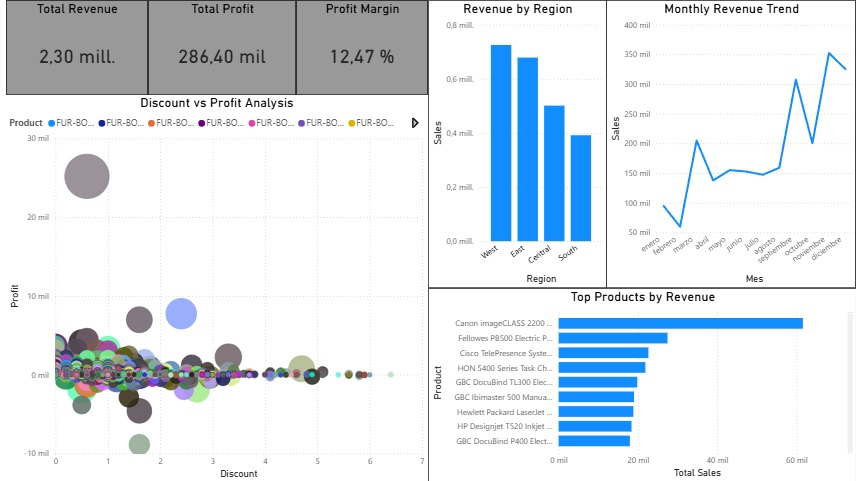

Layout of this report page (visuals, bound fields, positions):
{"tool":"powerbi","page":{"name":"Página 1","canvas":[1280,720],"ordinal":0},"visuals":[{"type":"card","title":"Total Revenue","fields":{"Values":["Sum(analytics sales.sales)"]},"box":[10,0,211.7,141.7],"z":0},{"type":"card","title":"Total Profit","fields":{"Values":["Sum(analytics sales.profit)"]},"box":[222.4,0,220.9,141.8],"z":1000},{"type":"card","title":"Profit Margin","fields":{"Values":["analytics sales.Profit Margin"]},"box":[443.3,0,197,141.8],"z":2000},{"type":"lineChart","title":"Monthly Revenue Trend","fields":{"Category":["analytics sales.order_date.Variación.Jerarquía de fechas.Mes"],"Y":["Sum(analytics sales.sales)"]},"box":[906.7,0,373.3,430],"z":3000},{"type":"scatterChart","title":"Discount vs Profit Analysis","fields":{"X":["Sum(analytics sales.discount)"],"Y":["Sum(analytics sales.profit)"],"Size":["Sum(analytics sales.sales)"],"Series":["analytics sales.product_id"]},"box":[10,141.7,630,578.3],"z":4000},{"type":"clusteredBarChart","title":"Top Products by Revenue","fields":{"Category":["analytics products.product_name"],"Y":["Sum(analytics sales.sales)"]},"box":[640.3,429.9,640.3,289.6],"z":5000},{"type":"clusteredColumnChart","title":"Revenue by Region","fields":{"Y":["Sum(analytics sales.sales)"],"Category":["analytics sales.region"]},"box":[640,0,266.7,430],"z":6000}]}

Visuals, with their boxes in screenshot pixels (x1, y1, x2, y2), scaled from the page's 1280x720 canvas onto the 856x481 screenshot:
"Total Revenue" card: 7, 0, 148, 95
"Total Profit" card: 149, 0, 296, 95
"Profit Margin" card: 296, 0, 428, 95
"Monthly Revenue Trend" lineChart: 606, 0, 855, 287
"Discount vs Profit Analysis" scatterChart: 7, 95, 428, 480
"Top Products by Revenue" clusteredBarChart: 428, 287, 855, 480
"Revenue by Region" clusteredColumnChart: 428, 0, 606, 287
